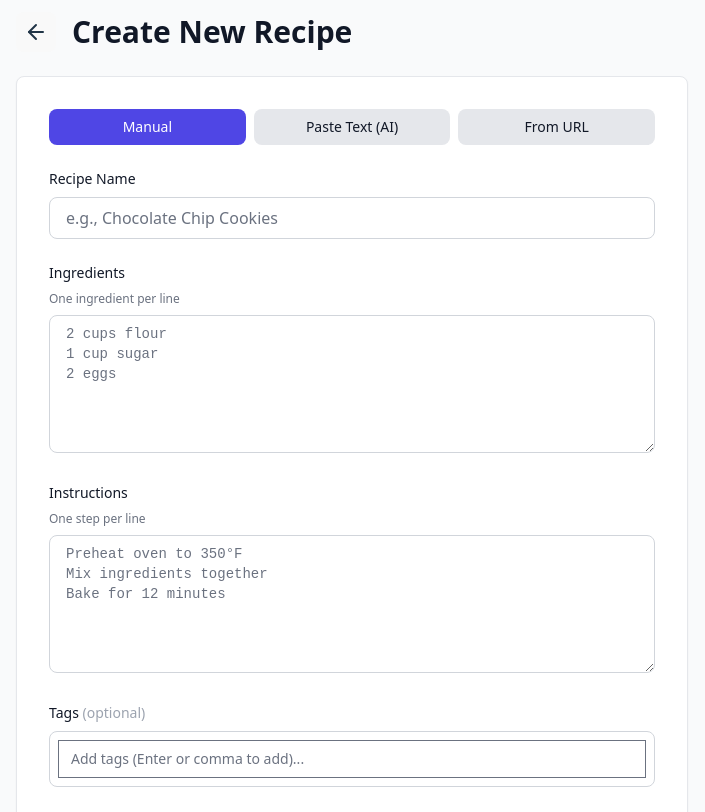
Test case: AddRecipeForm › shows a timeout error message when parsing times out
The image size is (705, 812).
Click the button "Paste Text (AI)": (352, 127) [254, 109, 450, 145]
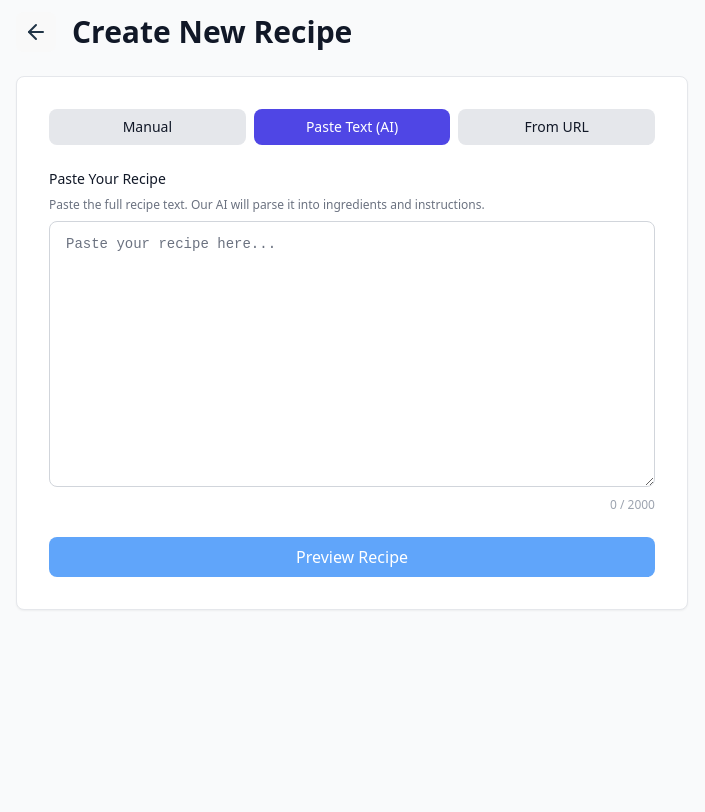
In the text box labelled "Paste Your Recipe": (352, 354) [49, 221, 655, 487], type "Some recipe text"
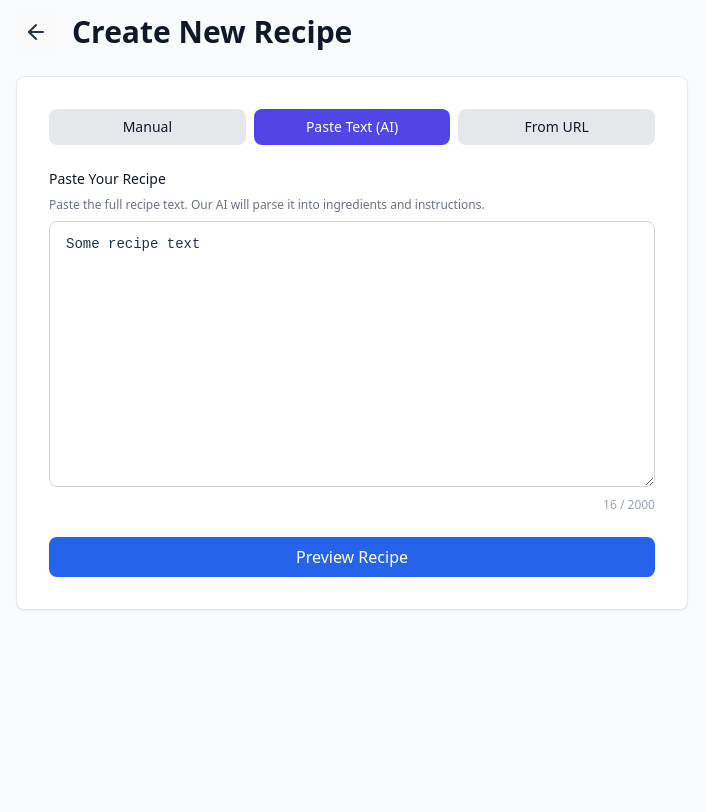
Click the button "Preview Recipe": (352, 557) [49, 537, 655, 577]
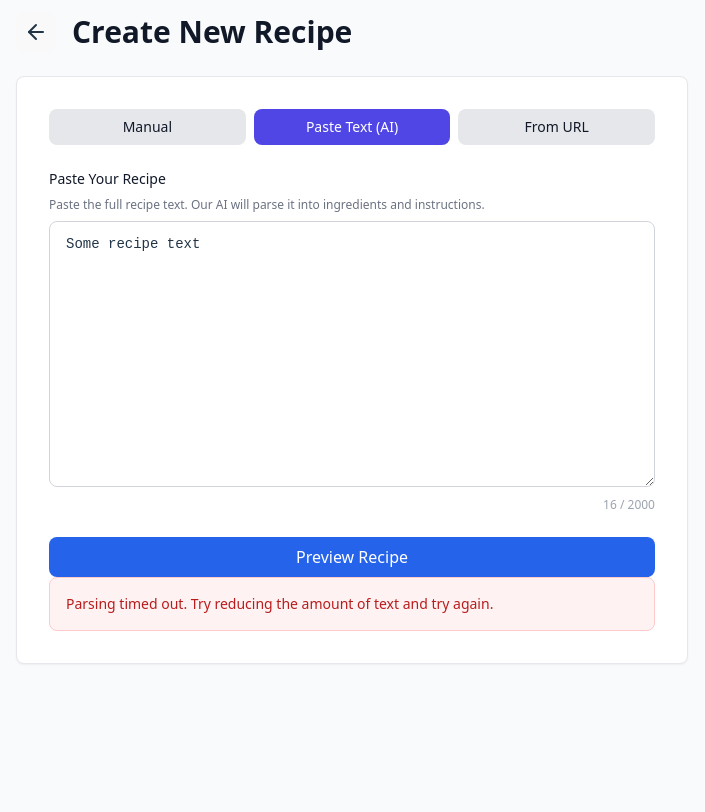
Expected: the text "Parsing timed out" is shown, [66, 594, 493, 613]
